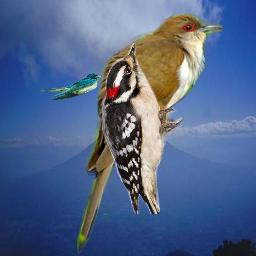Cuckoo: (77, 11, 223, 255)
Swallow: (40, 73, 101, 100)
Woodpecker: (102, 43, 182, 214)
